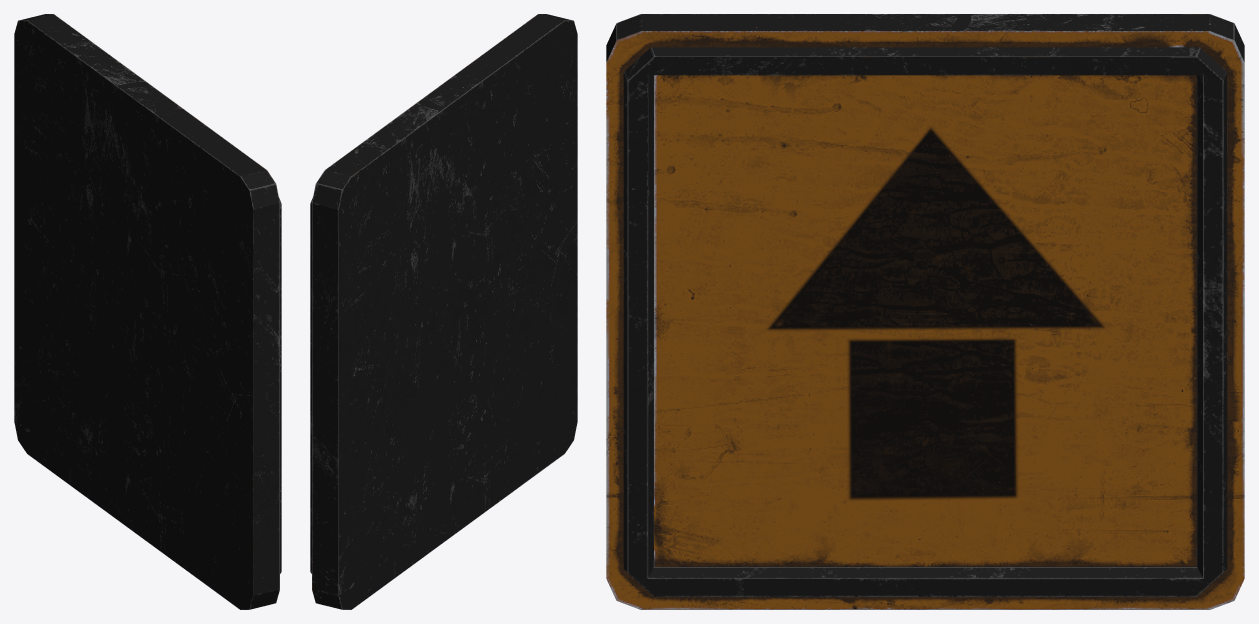
The model's file is ArrowRight.gltf.
The picture shows the model from 3 angles, left to right: view 1: azimuth 30°, elevation 25°; view 2: azimuth 150°, elevation 25°; view 3: azimuth 270°, elevation 25°; orthographic projection. The views are drawn at different scales.
Parts seen in each view (by area): view 1: Cube; view 2: Cube; view 3: Cube.
Part boxes in pixels (<box>): Cube: <box>14,14,281,609</box>; Cube: <box>310,14,577,609</box>; Cube: <box>606,14,1244,609</box>.
Size of the model in its own units: 0.1759 by 2 by 2.
1 material, 1 textured.
